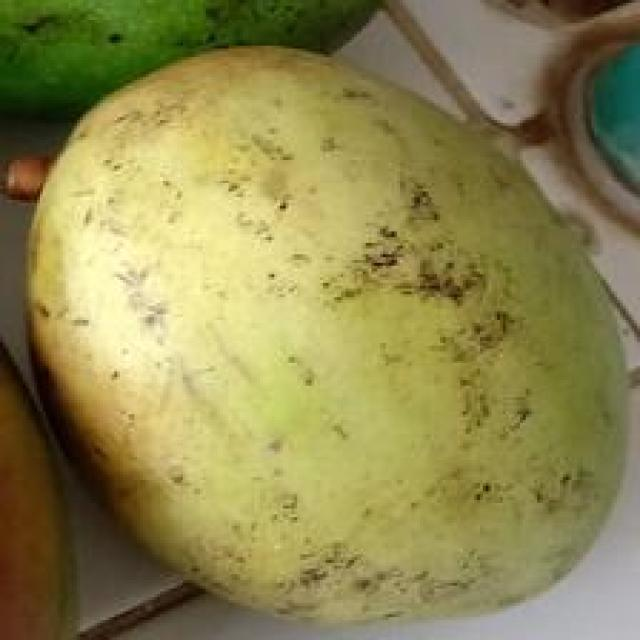Mango: (7, 26, 640, 624), (0, 342, 81, 640)
